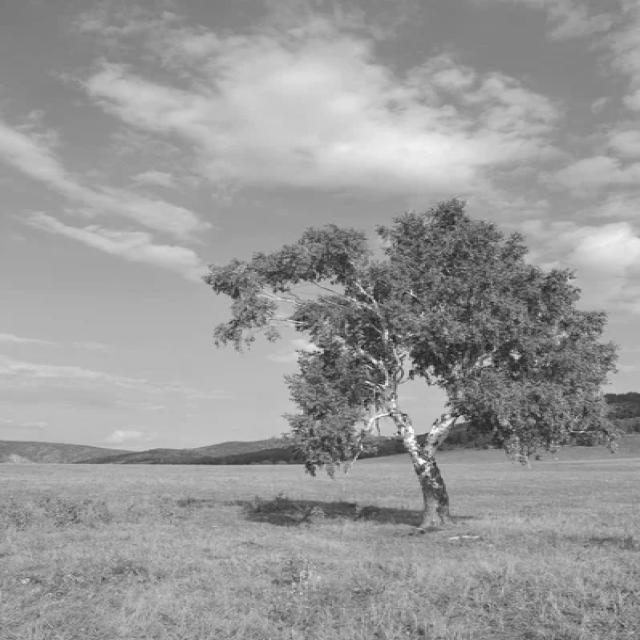Tree: (204, 199, 619, 534)
